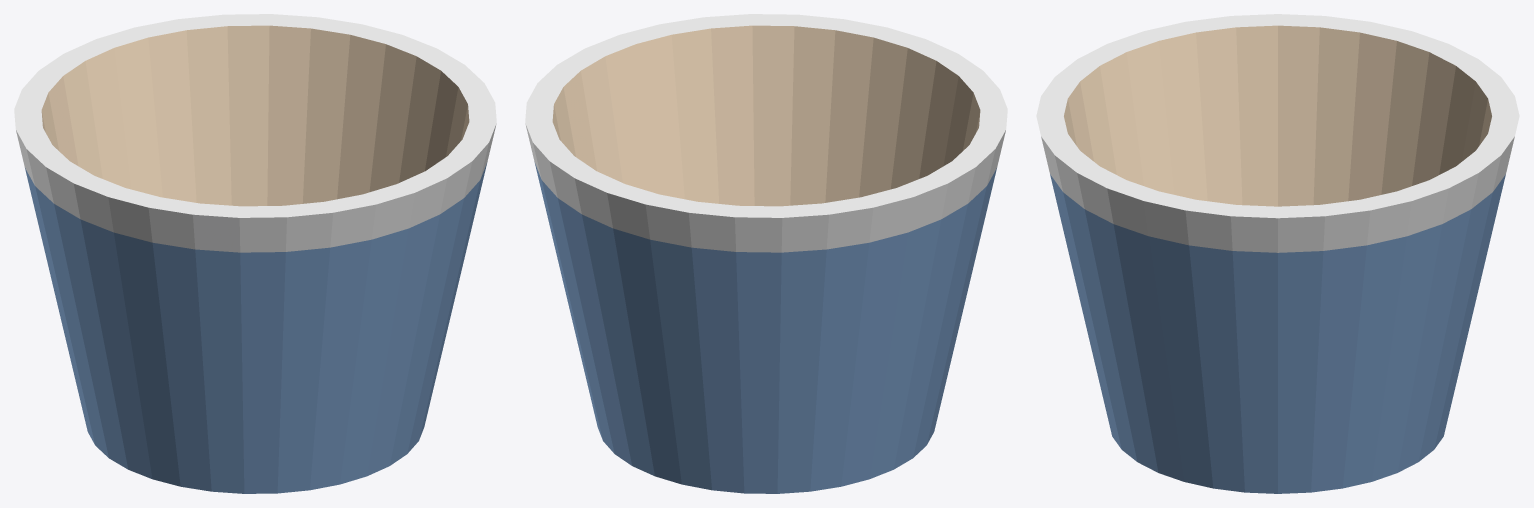
Rendered from stakan.fbx.
3 renders of one model, left to right at view 1: azimuth 30°, elevation 25°; view 2: azimuth 150°, elevation 25°; view 3: azimuth 270°, elevation 25°, orthographic.
Visible parts, largest first — view 1: Cylinder.002, Cylinder.001, Cylinder; view 2: Cylinder.002, Cylinder.001, Cylinder; view 3: Cylinder.002, Cylinder.001, Cylinder.
Part boxes in pixels (<box>): Cylinder.002: <box>25,162,487,493</box>; Cylinder.001: <box>41,25,469,206</box>; Cylinder: <box>14,14,496,252</box>; Cylinder.002: <box>534,162,996,493</box>; Cylinder.001: <box>552,25,980,206</box>; Cylinder: <box>525,14,1007,252</box>; Cylinder.002: <box>1050,174,1505,493</box>; Cylinder.001: <box>1064,25,1491,206</box>; Cylinder: <box>1036,14,1519,252</box>.
Size of the model in its own units: 286 by 200 by 286.
